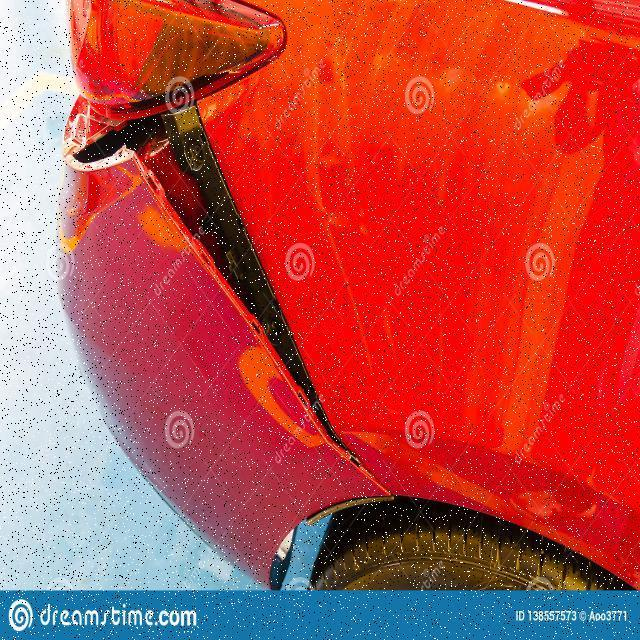rear-bumper-dent: (16, 66, 388, 528)
